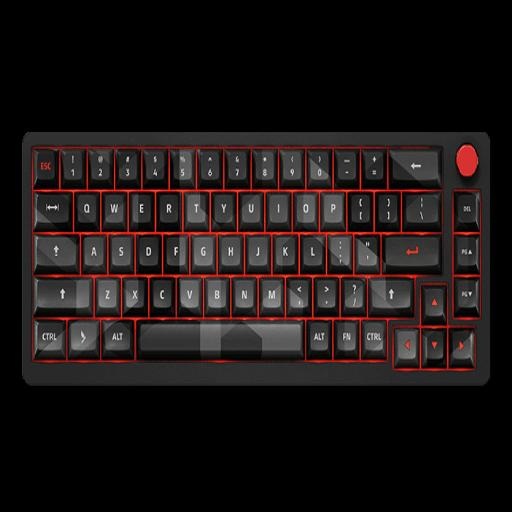keyboard: (23, 132, 489, 383)
